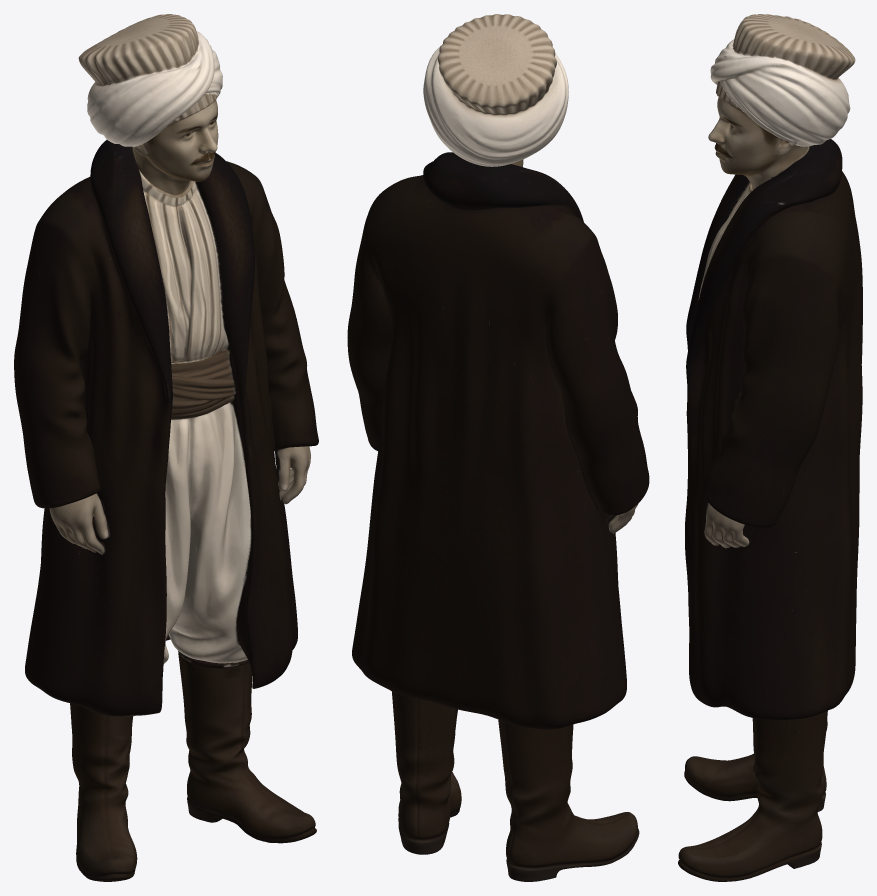
The model's file is osmanischer_herr_original.glb.
The picture shows the model from 3 angles, left to right: view 1: azimuth 30°, elevation 25°; view 2: azimuth 150°, elevation 25°; view 3: azimuth 270°, elevation 25°; orthographic projection. The views are drawn at different scales.
Size of the model in its own units: 0.661 by 1.9 by 0.3964.
1 material, 1 textured.
